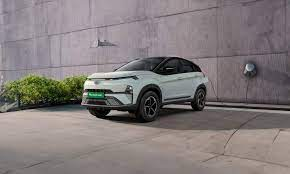Tata Nexon: (80, 56, 208, 125)
